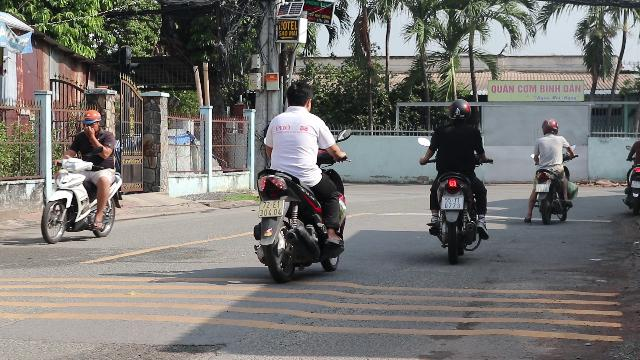helmet: (447, 97, 471, 123), (80, 108, 102, 132), (540, 117, 560, 134)
licenseplate: (258, 201, 284, 217), (441, 196, 463, 210), (536, 184, 548, 192)
motorcyclist: (248, 78, 350, 282), (38, 108, 124, 244), (421, 97, 492, 261), (524, 117, 578, 222)
nohelmet: (282, 80, 314, 112)
